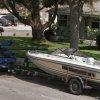Boat: (21, 41, 99, 94)
